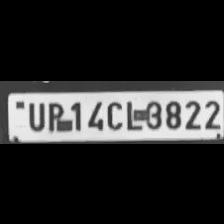1: (66, 98, 82, 130)
2: (182, 97, 202, 130), (201, 97, 221, 130)
3: (144, 97, 162, 129)
4: (84, 97, 104, 130)
8: (162, 97, 180, 129)
C: (104, 98, 122, 130)
L: (124, 97, 144, 130)
P: (46, 99, 66, 131)
U: (24, 98, 46, 130)
